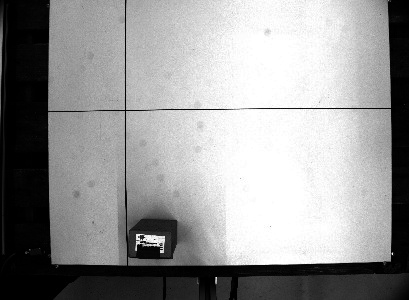b6: (126, 216, 180, 262)
